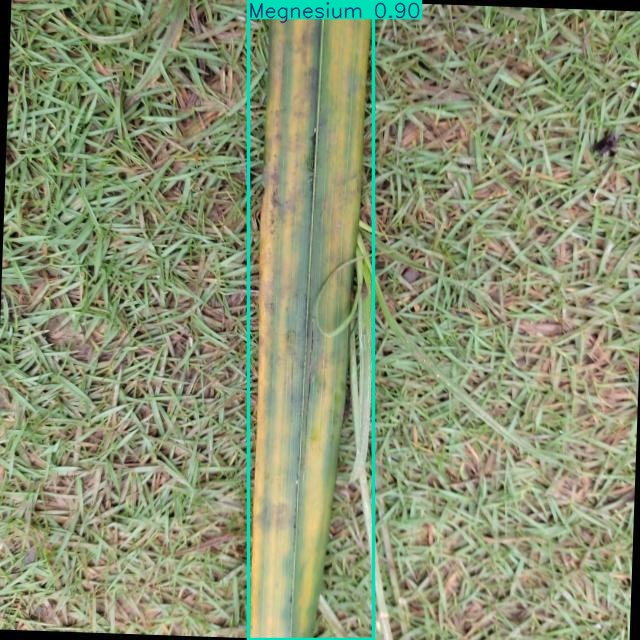Megnesium: (248, 1, 374, 640)
